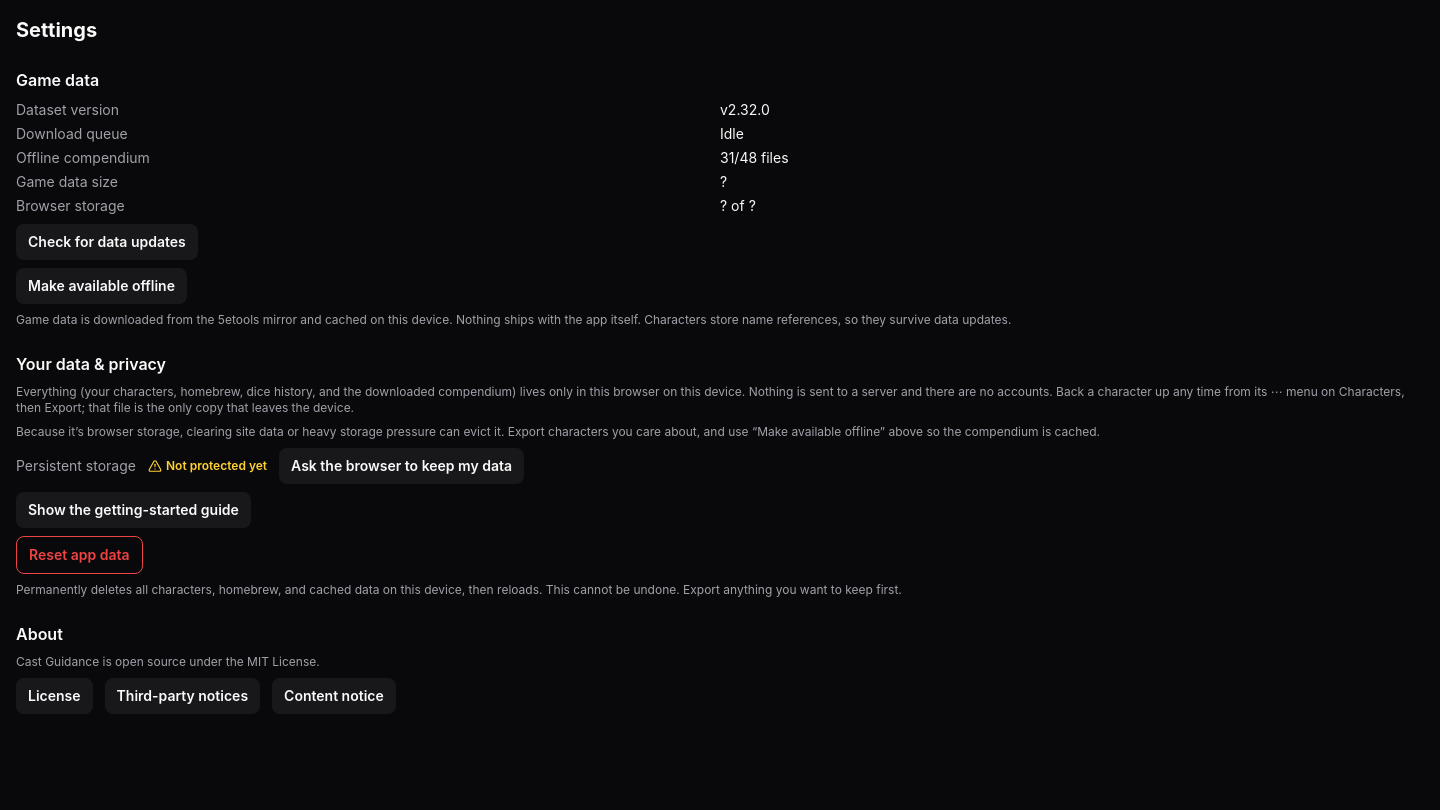
Test case: SettingsPage data announcements › alerts a failed download once, through the banner
What coordinates should you click on to do the following:
click the button "Make available offline"
I would click on:
 (102, 286)
Its box is [16,268,187,304].
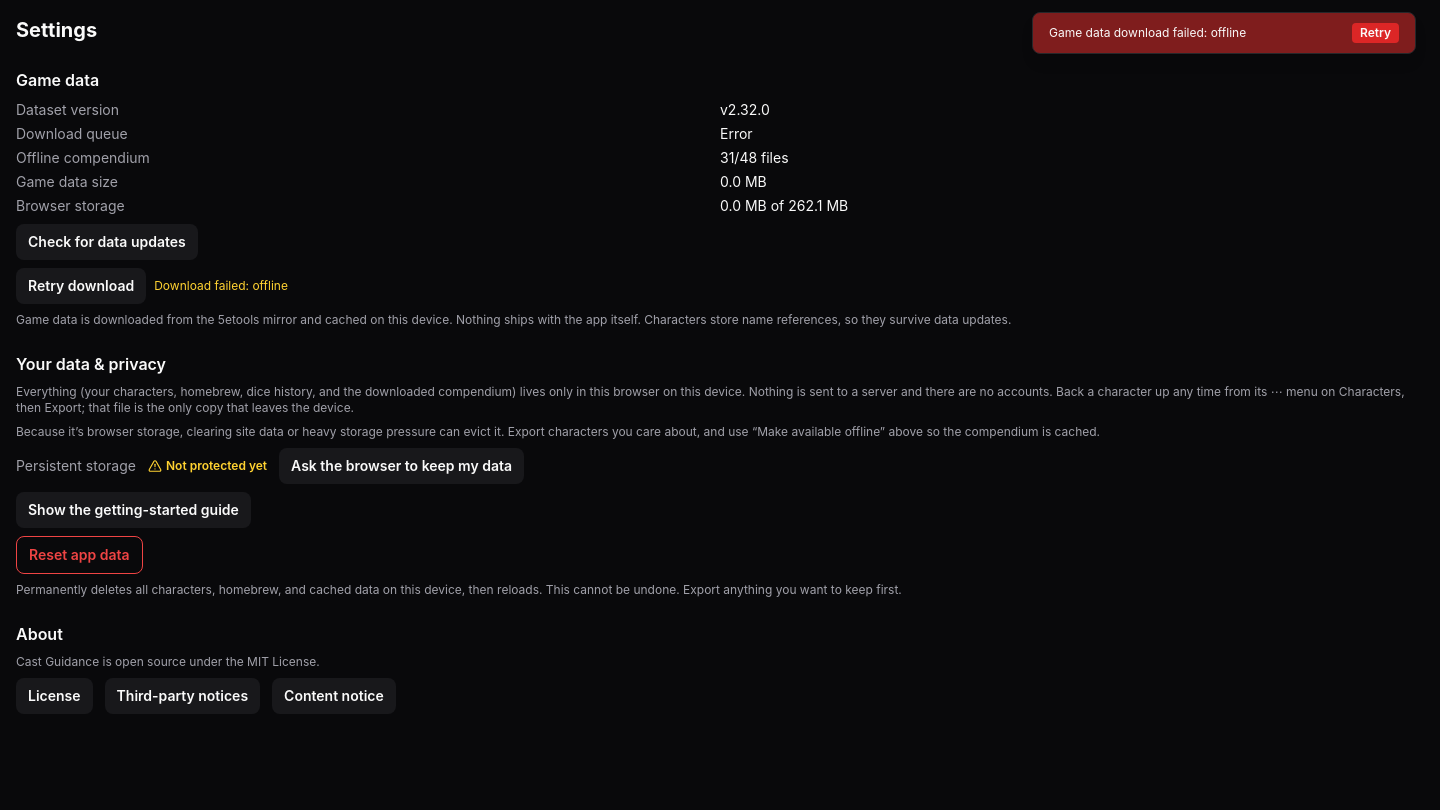
Now the text "Download failed: offline" is shown, box [154,278,288,294]
Now the button "Retry download" is shown, box [16,268,146,304]
Now the text "Game data download failed: offline" is shown, box [1049,25,1246,41]
